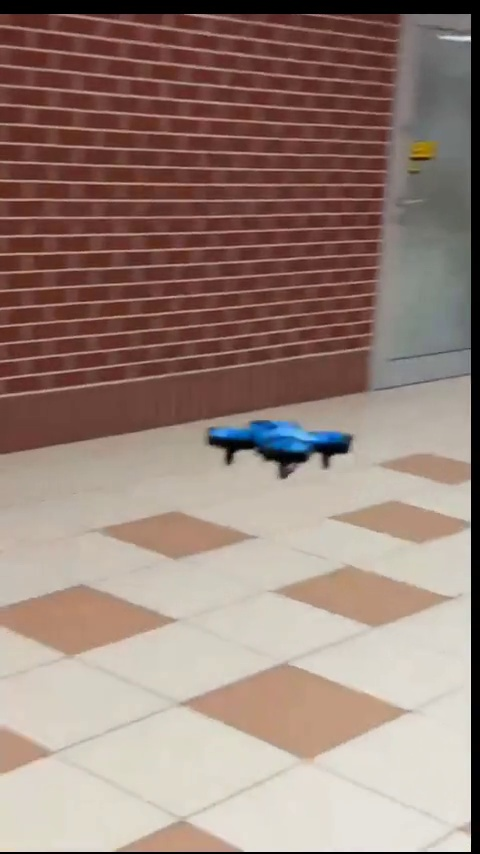drone: (204, 420, 362, 477)
